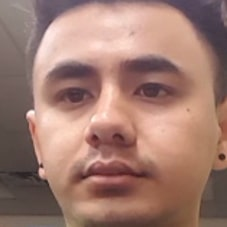awake: (41, 43, 194, 202)
